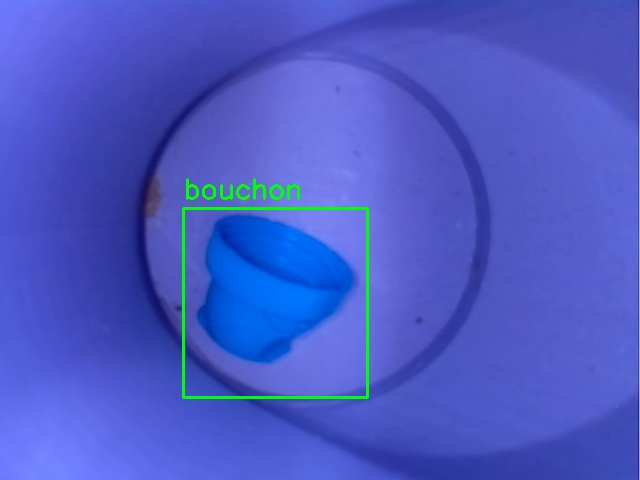bouchon: (183, 208, 367, 397)
